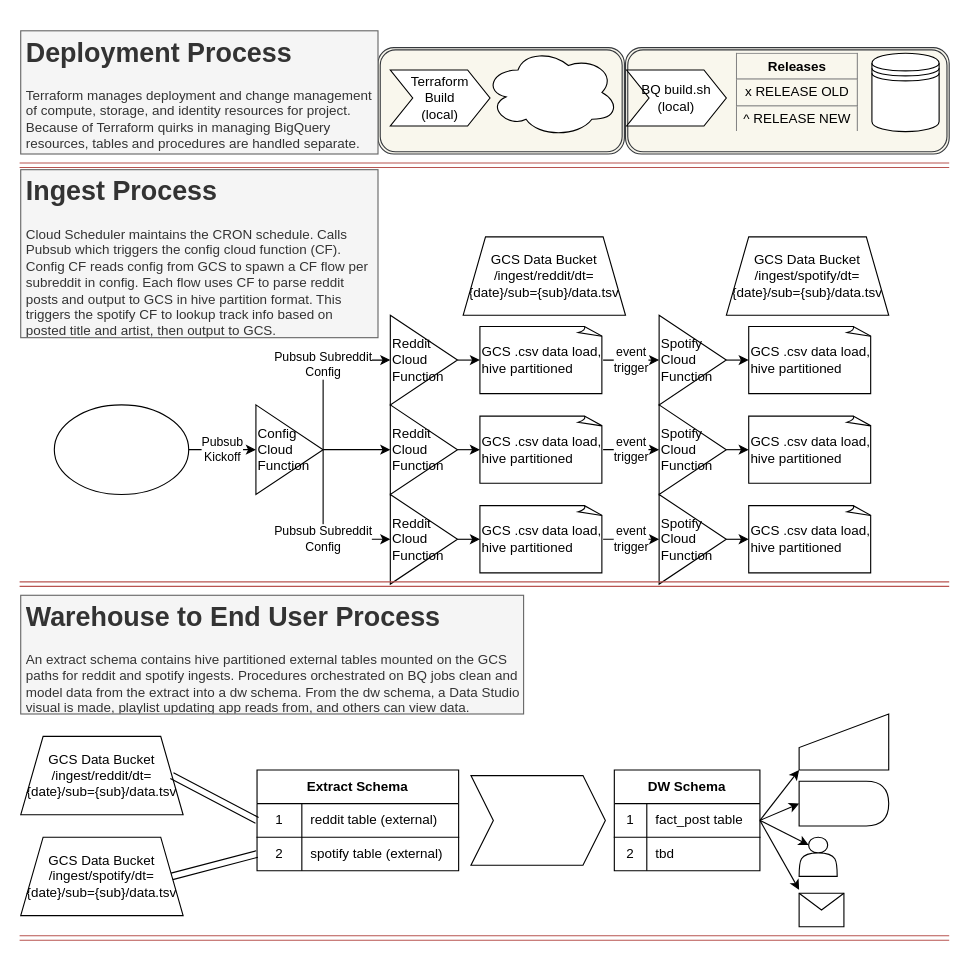
Some shapes in this 969 by 960 pixel diagram are drawn without their labels. The shapes that lost their labels are listed below. From the top down, each one's centre as x and y in pixels, then its label:
At point (551, 91): "GCP Cloud Build".
At point (905, 92): "BigQuery".
At point (121, 449): "Cloud Scheduler".
At point (843, 741): "Data Studio visual".
At point (537, 819): "BQ Orchestrated Jobs (Sprocs)".
At point (843, 803): "Playlist Update".
